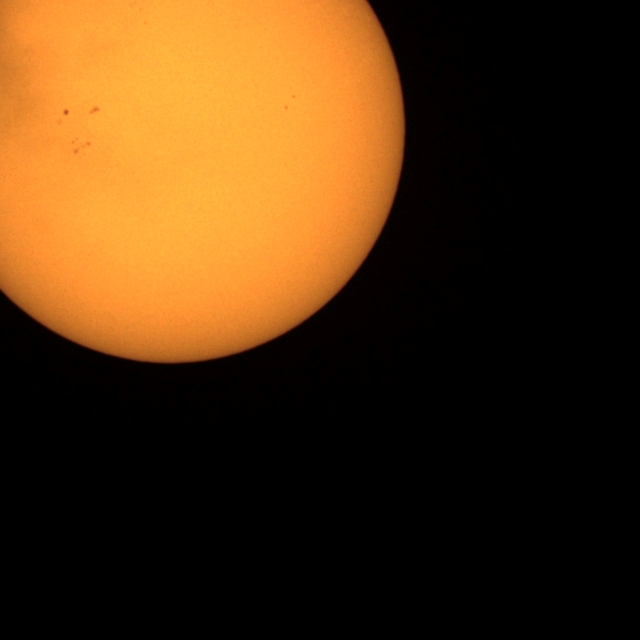sunspot: (70, 138, 91, 156), (283, 94, 297, 110), (58, 108, 70, 123), (89, 106, 100, 115), (62, 108, 70, 117), (283, 104, 289, 111)
